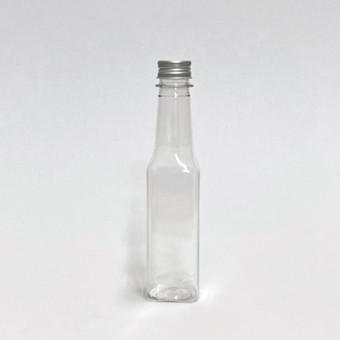bottle: (161, 61, 185, 300)
